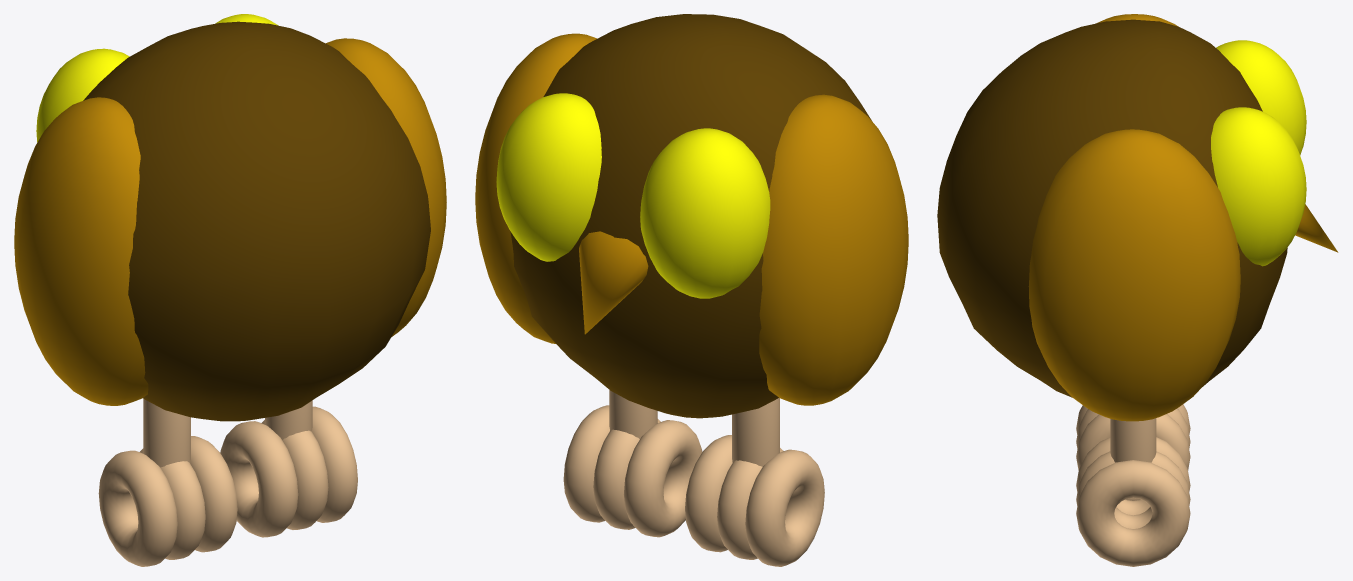
The model's file is Owl 1.fbx.
3 views of the same model, side by side, from view 1: azimuth 30°, elevation 25°; view 2: azimuth 150°, elevation 25°; view 3: azimuth 270°, elevation 25° (orthographic). The views are drawn at different scales.
Visible parts, largest first — view 1: pSphere1, pSphere4, pSphere5, pTorus6, pTorus3, pTorus5, pTorus2, pSphere3, pTorus1, pTorus4, pCylinder1, pCylinder2; view 2: pSphere1, pSphere4, pSphere3, pSphere2, pSphere5, pTorus6, pTorus3, pCone1, pTorus5, pTorus2, pTorus1, pTorus4 (+2 smaller); view 3: pSphere1, pSphere5, pSphere2, pTorus2, pSphere3, pCylinder2, pTorus5, pTorus1, pTorus3, pCone1, pTorus4.
Boxes of the visible parts, bbox=[...] form: pSphere1: bbox=[83, 21, 430, 421]; pSphere4: bbox=[14, 97, 148, 405]; pSphere5: bbox=[326, 38, 446, 336]; pTorus6: bbox=[98, 450, 177, 566]; pTorus3: bbox=[220, 421, 298, 537]; pTorus5: bbox=[190, 436, 237, 552]; pTorus2: bbox=[312, 406, 357, 522]; pSphere3: bbox=[36, 48, 129, 142]; pTorus1: bbox=[261, 420, 328, 529]; pTorus4: bbox=[140, 448, 205, 559]; pCylinder1: bbox=[143, 398, 190, 467]; pCylinder2: bbox=[265, 400, 312, 440]; pSphere1: bbox=[510, 14, 871, 418]; pSphere4: bbox=[759, 94, 908, 405]; pSphere3: bbox=[640, 128, 770, 298]; pSphere2: bbox=[496, 93, 601, 261]; pSphere5: bbox=[475, 33, 597, 343]; pTorus6: bbox=[745, 449, 824, 566]; pTorus3: bbox=[624, 420, 702, 537]; pCone1: bbox=[579, 231, 648, 334]; pTorus5: bbox=[685, 435, 732, 552]; pTorus2: bbox=[563, 405, 609, 522]; pTorus1: bbox=[593, 419, 660, 529]; pTorus4: bbox=[717, 448, 783, 559]; pSphere1: bbox=[937, 19, 1287, 397]; pSphere5: bbox=[1028, 129, 1240, 421]; pSphere2: bbox=[1211, 107, 1306, 266]; pTorus2: bbox=[1076, 460, 1190, 566]; pSphere3: bbox=[1216, 40, 1306, 155]; pCylinder2: bbox=[1110, 418, 1156, 462]; pTorus5: bbox=[1076, 414, 1190, 500]; pTorus1: bbox=[1076, 451, 1190, 528]; pTorus3: bbox=[1076, 437, 1190, 515]; pCone1: bbox=[1295, 204, 1338, 252]; pTorus4: bbox=[1076, 408, 1190, 448].
Size of the model in its own units: 0.5964 by 0.7294 by 0.5467.
